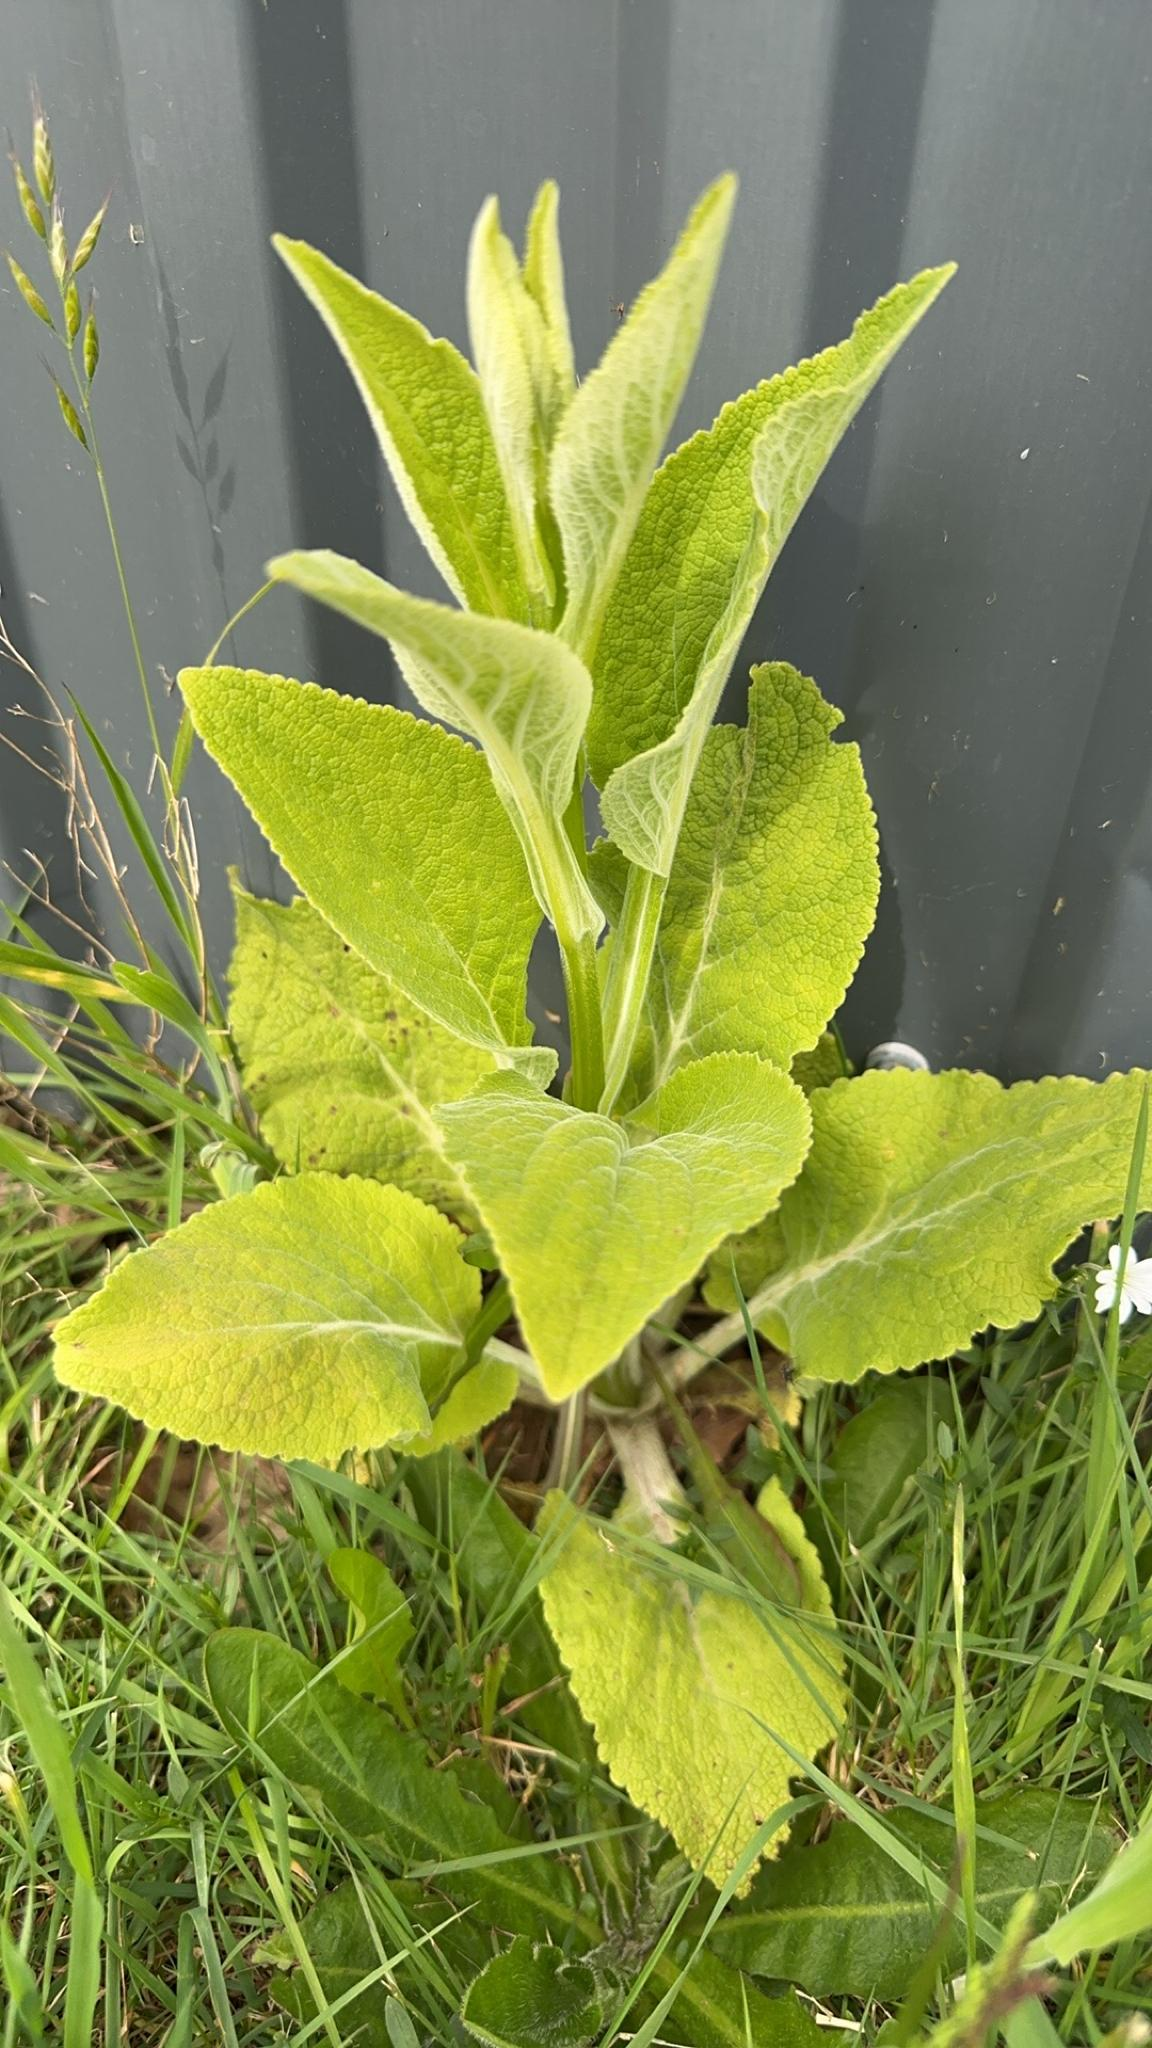Digitalis L: (39, 162, 1139, 1881)
